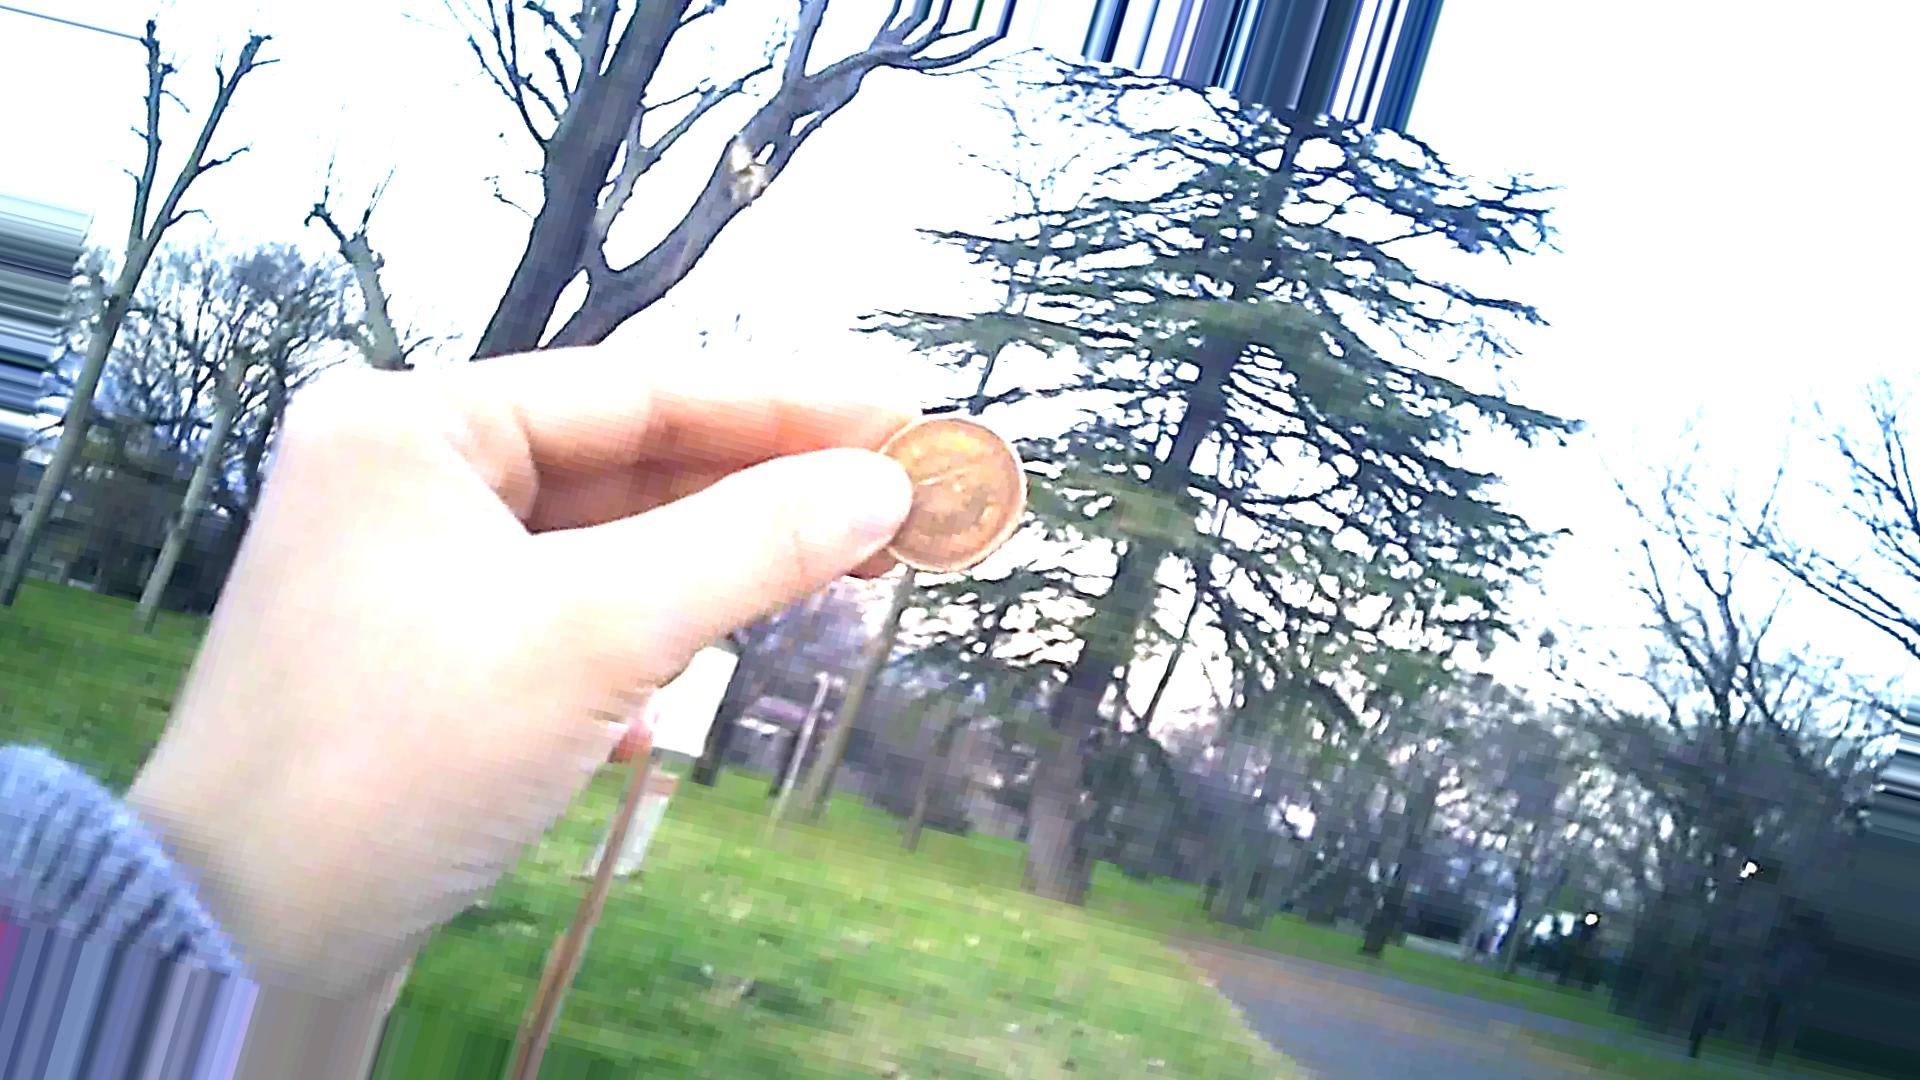10 Yen: (849, 402, 1017, 571)
